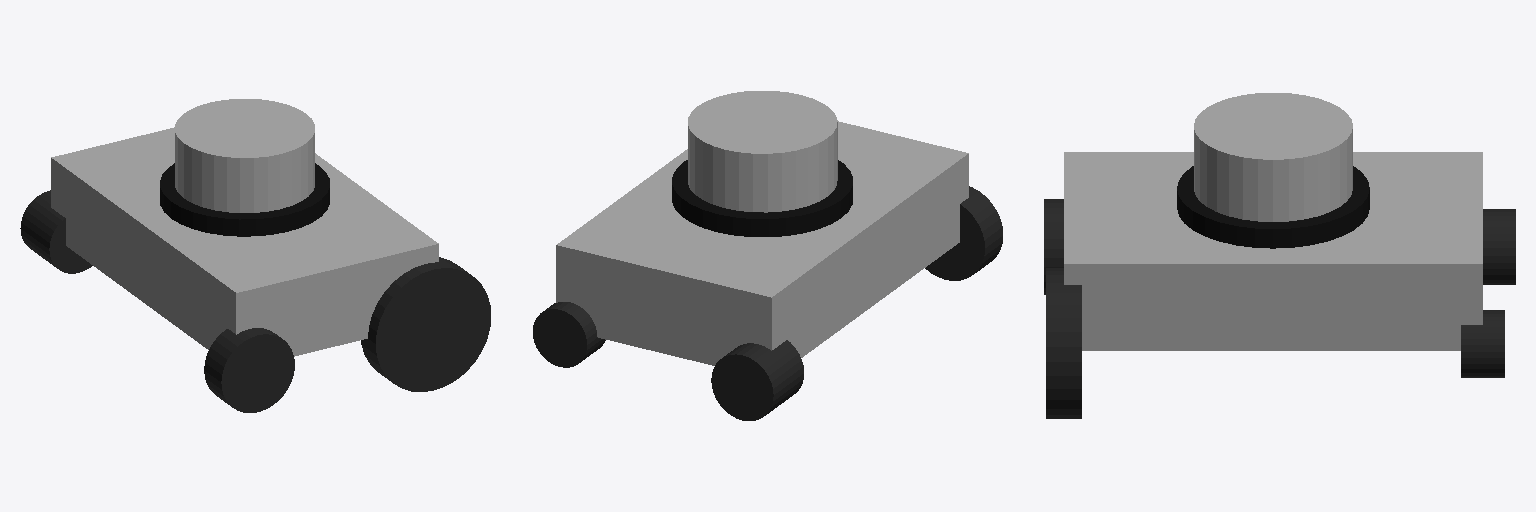
The robot description file, URDF, robot "evolved_robot":
<?xml version="1.0"?>
<robot name="evolved_robot">
  <material name="metal">
    <color rgba="0.7 0.7 0.7 1.0"/>
  </material>
  <material name="plastic">
    <color rgba="0.3 0.3 0.9 1.0"/>
  </material>
  <material name="rubber">
    <color rgba="0.1 0.1 0.1 1.0"/>
  </material>
  <material name="red">
    <color rgba="1.0 0.0 0.0 1.0"/>
  </material>
  <material name="wheel_material">
    <color rgba="0.2 0.2 0.2 1.0"/>
  </material>
  <link name="base_link">
    <visual>
      <geometry><box size="0.30893827926748496 0.4898287477294404 0.11293765763393286"/></geometry>
      <material name="metal"/>
    </visual>
    <collision>
      <geometry><box size="0.30893827926748496 0.4898287477294404 0.11293765763393286"/></geometry>
    </collision>
    <inertial>
      <mass value="5.0"/>
      <inertia ixx="0.21057259717835933" ixy="0" ixz="0" 
               iyy="0.0901648124238283" iyz="0" 
               izz="0.2794792187491219"/>
    </inertial>
  </link>
  <link name="link1">
    <visual>
      <geometry>
        <cylinder radius="0.03925161292799869" length="0.051373417723952305"/>
      </geometry>
      <material name="wheel_material"/>
    </visual>
    <collision>
      <geometry>
        <cylinder radius="0.03925161292799869" length="0.051373417723952305"/>
      </geometry>
    </collision>
    <inertial>
      <mass value="1.0"/>
      <inertia ixx="0.0006051079500823332" ixy="0" ixz="0" 
               iyy="0.0006051079500823332" iyz="0" 
               izz="0.000770344558724717"/>
    </inertial>
  </link>
  <joint name="joint1" type="continuous">
    <parent link="base_link"/>
    <child link="link1"/>
    <origin xyz="0.1344691396337425 0.2449143738647202 -0.05646882881696643" rpy="1.5708 0 0"/>
    <axis xyz="0 1 0"/>
    <dynamics damping="0.800080736609337" friction="0.1"/>
  </joint>
  <link name="link2">
    <visual>
      <geometry><cylinder radius="0.11280514407771092" length="0.05"/></geometry>
      <material name="rubber"/>
    </visual>
    <collision>
      <geometry><cylinder radius="0.11280514407771092" length="0.05"/></geometry>
    </collision>
    <inertial>
      <mass value="0.5"/>
      <inertia ixx="0.003389583465931613" ixy="0" ixz="0" 
               iyy="0.003389583465931613" iyz="0" 
               izz="0.006362500265196559"/>
    </inertial>
  </link>
  <joint name="joint2" type="revolute">
    <parent link="base_link"/>
    <child link="link2"/>
    <origin xyz="0 0 0.05646882881696643" rpy="0 0 0"/>
    <axis xyz="0.0 0.9935421703900417 0.11346345515911926"/>
    <dynamics damping="0.856863713544254" friction="0.1"/>
    <limit lower="-1.2962509201736314" upper="1.1738453587504467" effort="100" velocity="100"/>
  </joint>
  <link name="link3">
    <visual>
      <geometry>
        <cylinder radius="0.08836949261706521" length="0.04105152901828271"/>
      </geometry>
      <material name="wheel_material"/>
    </visual>
    <collision>
      <geometry>
        <cylinder radius="0.08836949261706521" length="0.04105152901828271"/>
      </geometry>
    </collision>
    <inertial>
      <mass value="1.0"/>
      <inertia ixx="0.0020927274759109616" ixy="0" ixz="0" 
               iyy="0.0020927274759109616" iyz="0" 
               izz="0.0039045836126987716"/>
    </inertial>
  </link>
  <joint name="joint3" type="continuous">
    <parent link="base_link"/>
    <child link="link3"/>
    <origin xyz="0.1344691396337425 -0.2449143738647202 -0.05646882881696643" rpy="1.5708 0 0"/>
    <axis xyz="0 1 0"/>
    <dynamics damping="0.8573772911950069" friction="0.1"/>
  </joint>
  <link name="link4">
    <visual>
      <geometry>
        <cylinder radius="0.044752373852259414" length="0.0763337533559313"/>
      </geometry>
      <material name="wheel_material"/>
    </visual>
    <collision>
      <geometry>
        <cylinder radius="0.044752373852259414" length="0.0763337533559313"/>
      </geometry>
    </collision>
    <inertial>
      <mass value="1.0"/>
      <inertia ixx="0.0009862638998034442" ixy="0" ixz="0" 
               iyy="0.0009862638998034442" iyz="0" 
               izz="0.001001387482706196"/>
    </inertial>
  </link>
  <joint name="joint4" type="continuous">
    <parent link="base_link"/>
    <child link="link4"/>
    <origin xyz="-0.1344691396337425 0.2449143738647202 -0.05646882881696643" rpy="1.5708 0 0"/>
    <axis xyz="0 1 0"/>
    <dynamics damping="0.7077504342362109" friction="0.1"/>
  </joint>
  <link name="link5">
    <visual>
      <geometry><cylinder radius="0.09326353907995685" length="0.11067024599114919"/></geometry>
      <material name="metal"/>
    </visual>
    <collision>
      <geometry><cylinder radius="0.09326353907995685" length="0.11067024599114919"/></geometry>
    </collision>
    <inertial>
      <mass value="0.5"/>
      <inertia ixx="0.0031951805427414496" ixy="0" ixz="0" 
               iyy="0.0031951805427414496" iyz="0" 
               izz="0.00434904386085932"/>
    </inertial>
  </link>
  <joint name="joint5" type="floating">
    <parent link="base_link"/>
    <child link="link5"/>
    <origin xyz="0 0 0.10646882881696643" rpy="0 0 0"/>
    <axis xyz="-0.9070817309889379 -0.37770951426540966 0.1858447097431092"/>
    <dynamics damping="0.6722266996412448" friction="0.1"/>
  </joint>
  <link name="link6">
    <visual>
      <geometry>
        <cylinder radius="0.056216930861431924" length="0.04559188145222981"/>
      </geometry>
      <material name="wheel_material"/>
    </visual>
    <collision>
      <geometry>
        <cylinder radius="0.056216930861431924" length="0.04559188145222981"/>
      </geometry>
    </collision>
    <inertial>
      <mass value="1.0"/>
      <inertia ixx="0.000963304133399269" ixy="0" ixz="0" 
               iyy="0.000963304133399269" iyz="0" 
               izz="0.0015801716577395085"/>
    </inertial>
  </link>
  <joint name="joint6" type="continuous">
    <parent link="base_link"/>
    <child link="link6"/>
    <origin xyz="-0.1344691396337425 -0.2449143738647202 -0.05646882881696643" rpy="1.5708 0 0"/>
    <axis xyz="0 1 0"/>
    <dynamics damping="0.47291917500060554" friction="0.1"/>
  </joint>
</robot>

--- Facts derived from the render (not from the file) ---
The picture shows the robot from 3 angles, left to right: view 1: azimuth 30°, elevation 25°; view 2: azimuth 150°, elevation 25°; view 3: azimuth 270°, elevation 25°; orthographic projection.
Robot: evolved_robot — 7 links, 6 joints (1 revolute, 4 continuous, 1 floating); root link base_link; default pose: every joint at zero.
Visible links, largest first — view 1: base_link, link5, link3, link6, link2, link4; view 2: base_link, link5, link2, link4, link6, link1; view 3: base_link, link5, link2, link3, link1, link4, link6.
Link boxes in pixels (x1,y1,x2,y2): base_link: [51, 127, 438, 356]; link5: [175, 99, 314, 212]; link3: [361, 257, 490, 391]; link6: [204, 328, 294, 412]; link2: [160, 163, 329, 236]; link4: [20, 190, 92, 273]; base_link: [556, 121, 968, 365]; link5: [688, 91, 837, 212]; link2: [672, 160, 852, 236]; link4: [711, 340, 803, 420]; link6: [925, 186, 1002, 280]; link1: [533, 302, 605, 367]; base_link: [1064, 152, 1482, 350]; link5: [1194, 93, 1352, 221]; link2: [1177, 166, 1369, 248]; link3: [1046, 268, 1081, 418]; link1: [1461, 310, 1504, 377]; link4: [1483, 209, 1515, 284]; link6: [1044, 199, 1063, 294].
Bounding box of the posed robot: 0.4135 × 0.5508 × 0.3066 m (x, y, z).
Geometry: primitives only (box / cylinder / sphere), no mesh files.